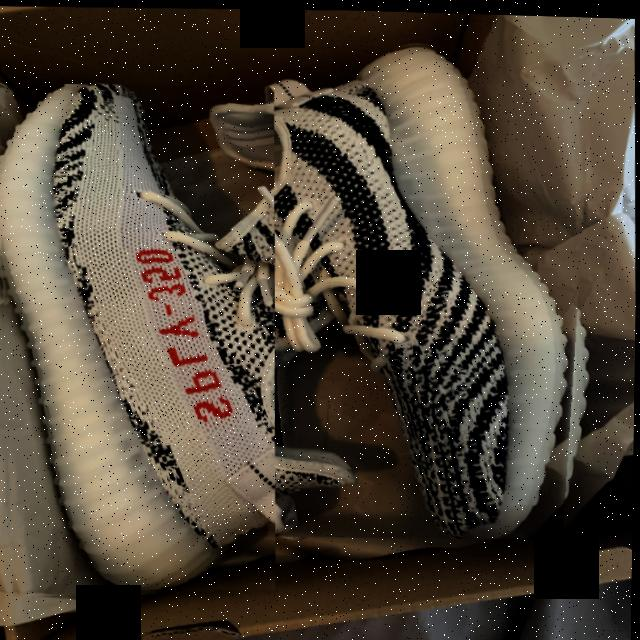shoe: (227, 29, 602, 543), (0, 77, 283, 602)
